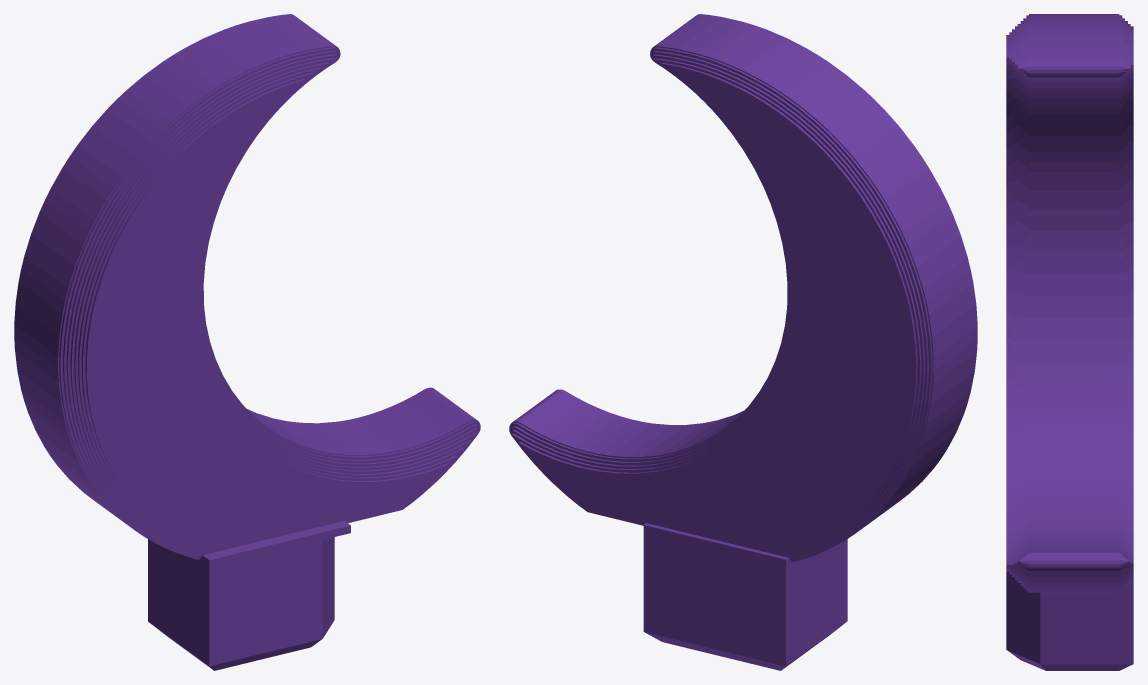
The model's file is glyph-shadow@shadow.glb.
3 views of the same model, side by side, from view 1: azimuth 30°, elevation 25°; view 2: azimuth 150°, elevation 25°; view 3: azimuth 270°, elevation 25° (orthographic). The views are drawn at different scales.
Visible parts, largest first — view 1: geometry_0; view 2: geometry_0; view 3: geometry_0.
Part boxes in pixels (left/top/right/bottom): geometry_0: left=14, top=14, right=480, bottom=670; geometry_0: left=509, top=14, right=977, bottom=670; geometry_0: left=1006, top=14, right=1133, bottom=670.
Size of the model in its own units: 17.89 by 24.05 by 4.5.
